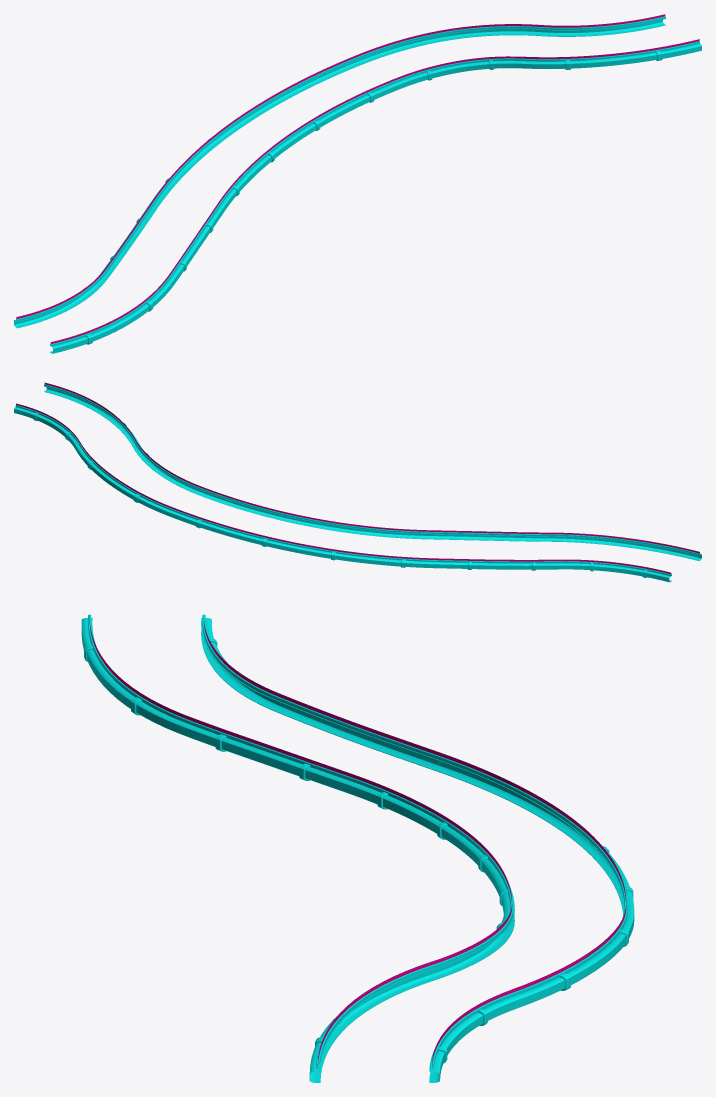
The model's file is Mur_Route_V_B.fbx.
The picture shows the model from 3 angles, top to bottom: view 1: azimuth 30°, elevation 25°; view 2: azimuth 150°, elevation 25°; view 3: azimuth 270°, elevation 25°; orthographic projection. The views are drawn at different scales.
Parts seen in each view (by area): view 1: polySurface1229; view 2: polySurface1229; view 3: polySurface1229.
Boxes of the visible parts, x1=… form: polySurface1229: x1=14, y1=14, x2=701, y2=353; polySurface1229: x1=14, y1=382, x2=701, y2=582; polySurface1229: x1=81, y1=614, x2=634, y2=1082.
Size of the model in its own units: 159 by 18.97 by 63.64.
